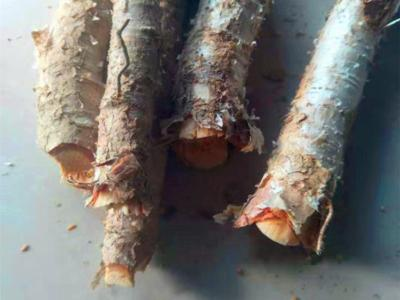Root: (32, 0, 271, 286), (234, 0, 400, 253)
